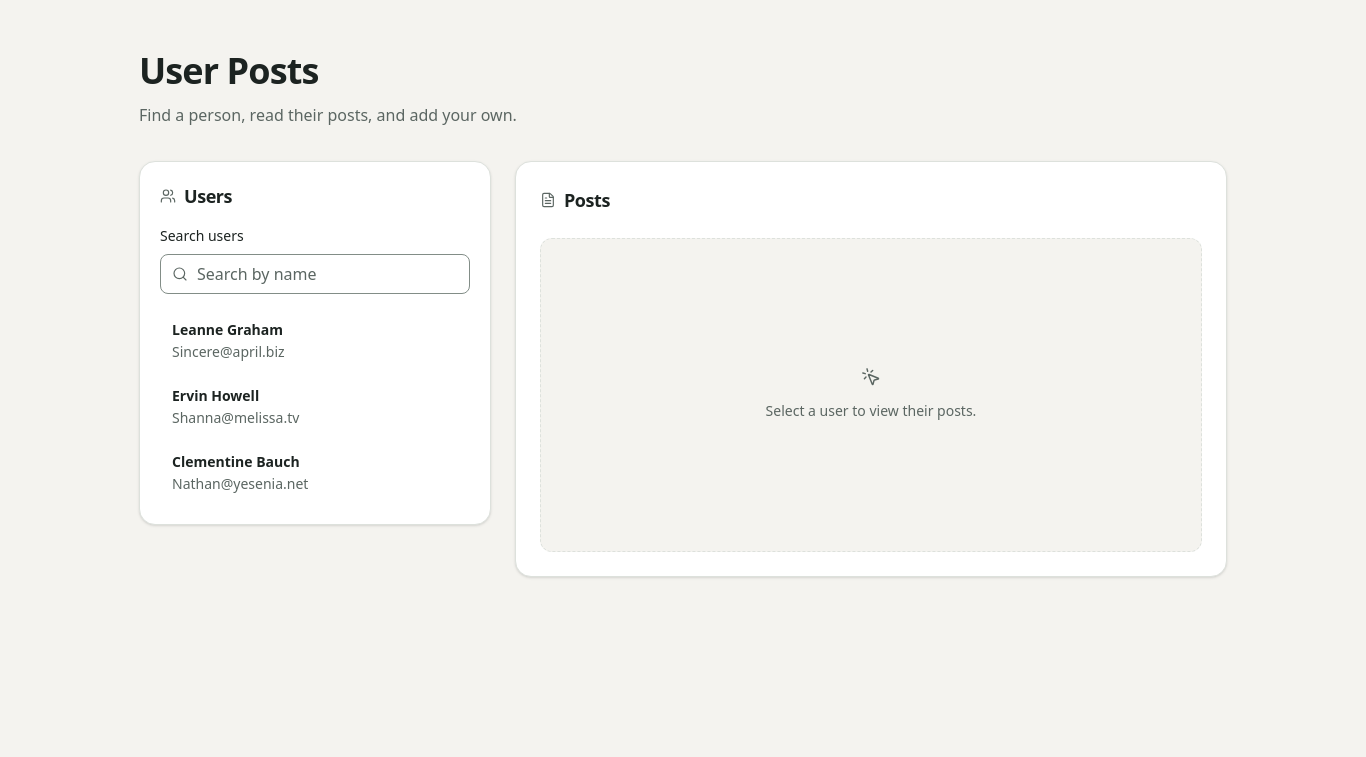
it: App › keeps a created post when switching between users
The width and height of the screenshot is (1366, 757).
Step 1. Click the button "Leanne Graham Sincere@april.biz" → click(228, 330), box 160,310 -> 470,372
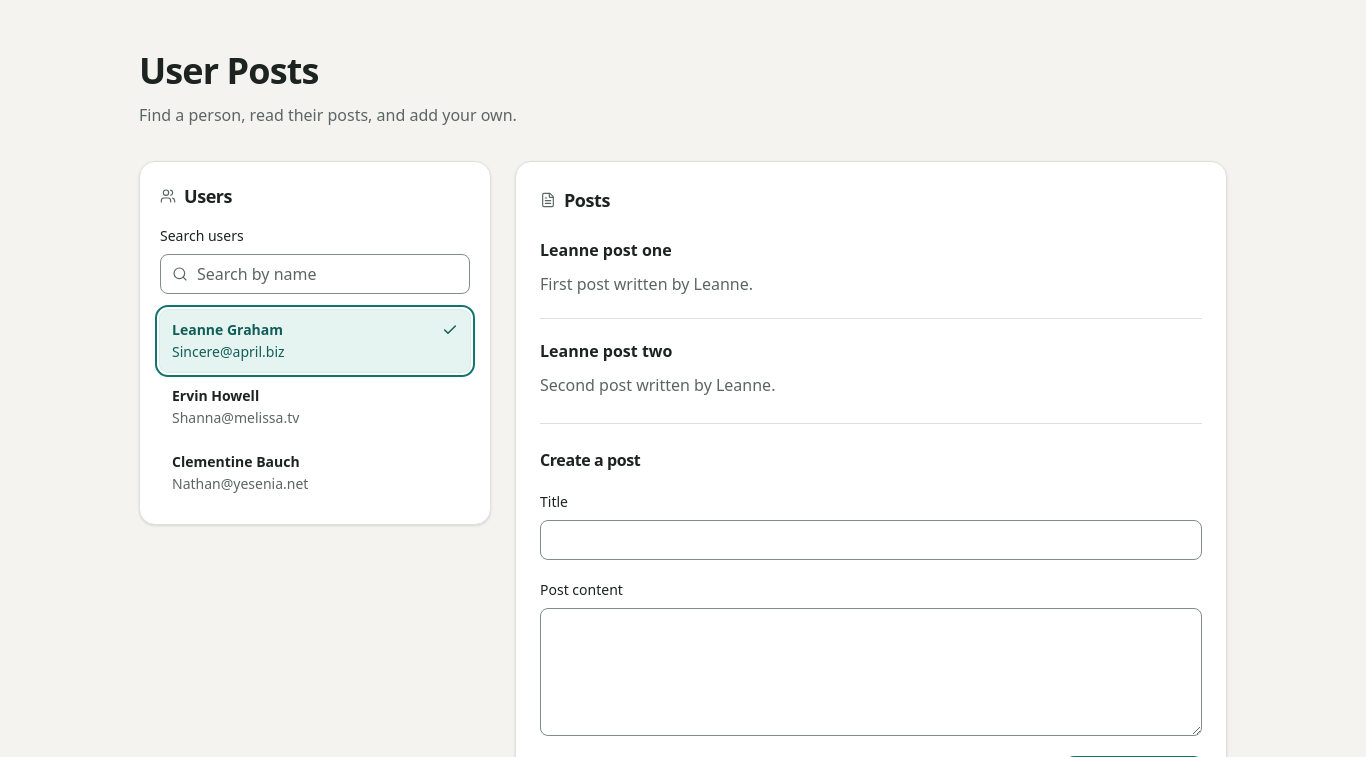
expect the heading "Leanne post one" is shown: met, box 540,239 -> 672,261
Step 2. Type "Session post" into the field labelled "Title" → (871, 540), box 540,520 -> 1202,560
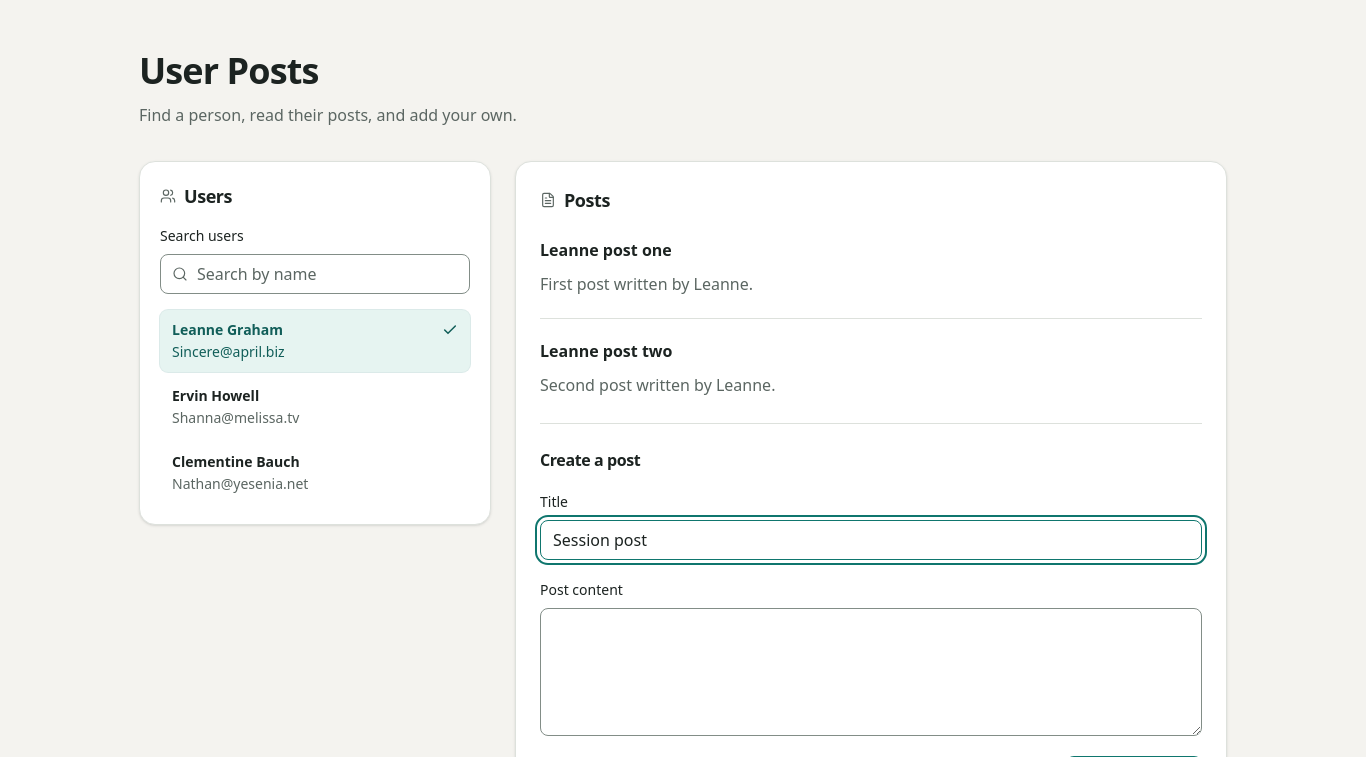
Step 3. Type "Created during the session" into the text box labelled "Post content" → (871, 672), box 540,608 -> 1202,736
(page scrolled)
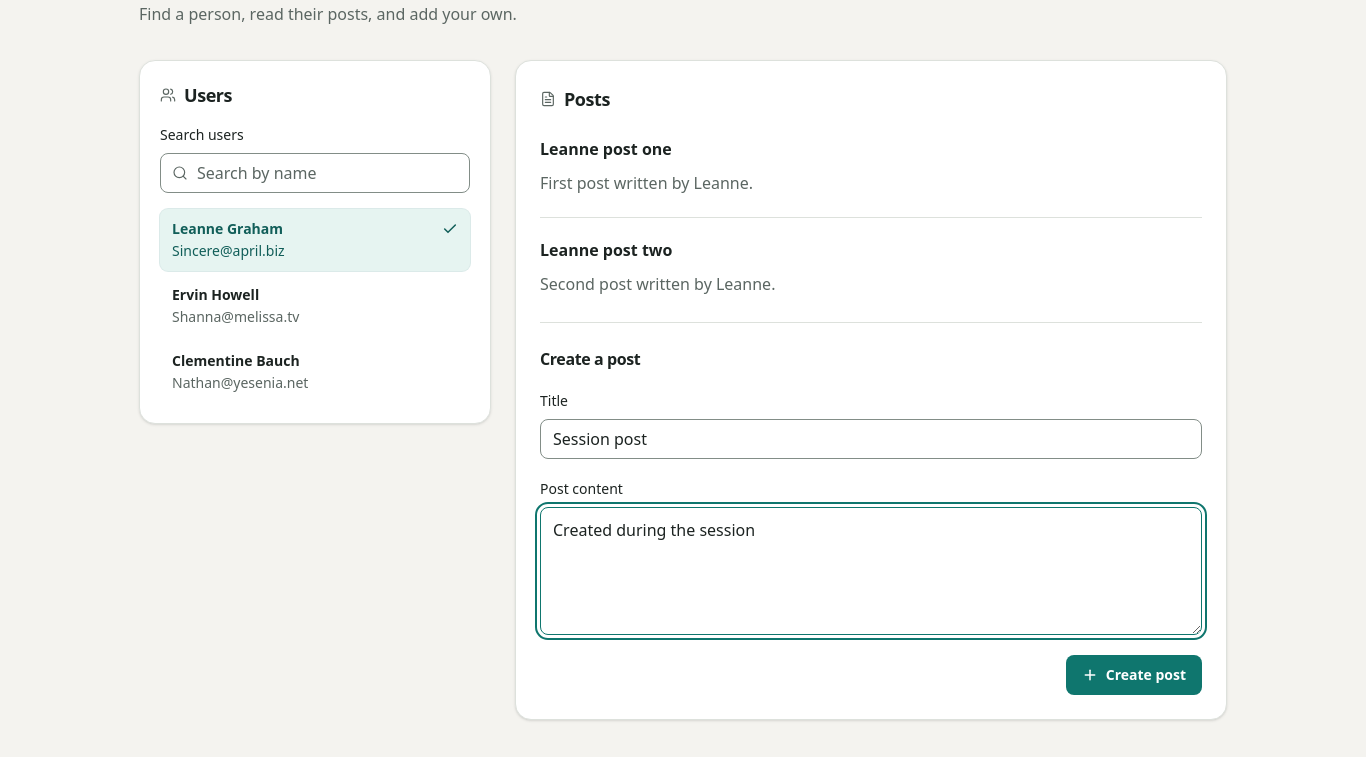
Step 4. Click the button "Create post" → click(1134, 675), box 1066,655 -> 1202,695
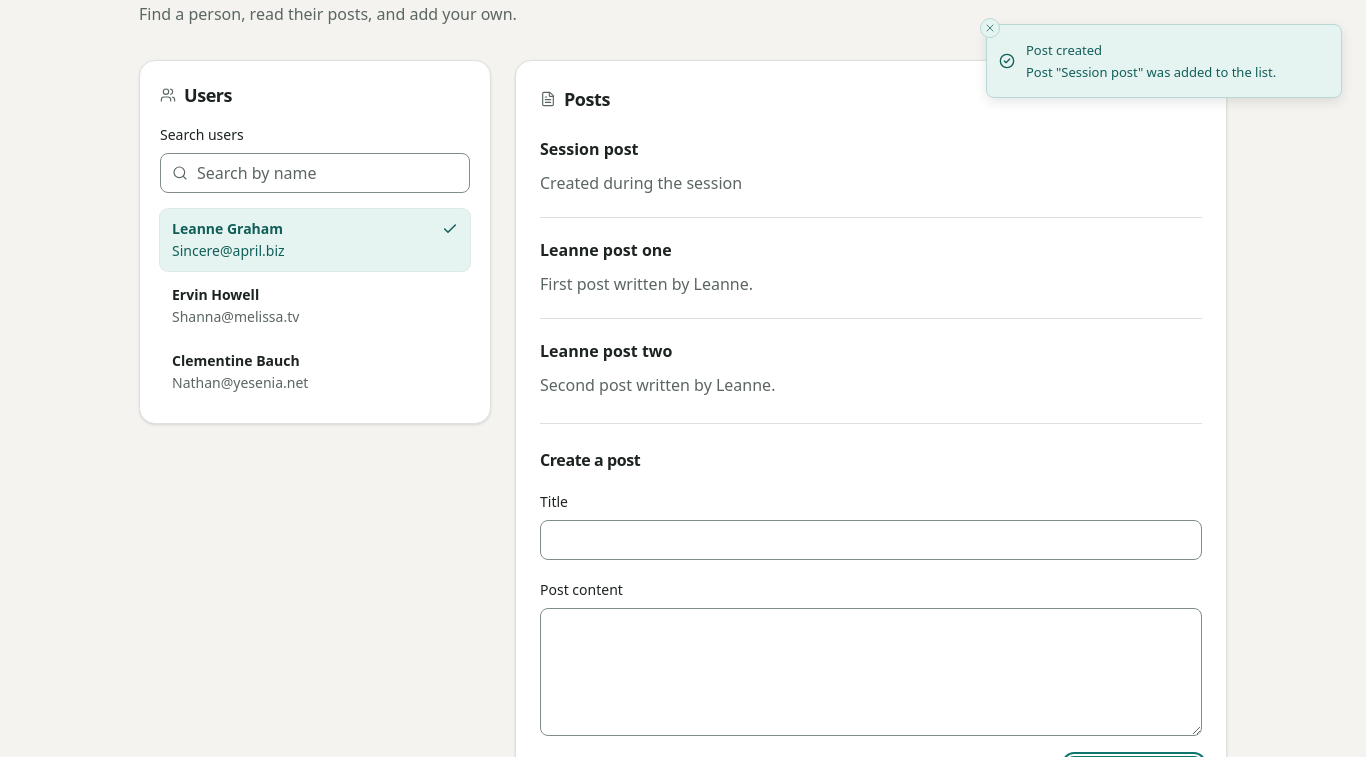
expect the heading "Session post" is shown: met, box 540,138 -> 639,160
Step 5. Click the button "Ervin Howell Shanna@melissa.tv" → click(216, 294), box 160,275 -> 470,337
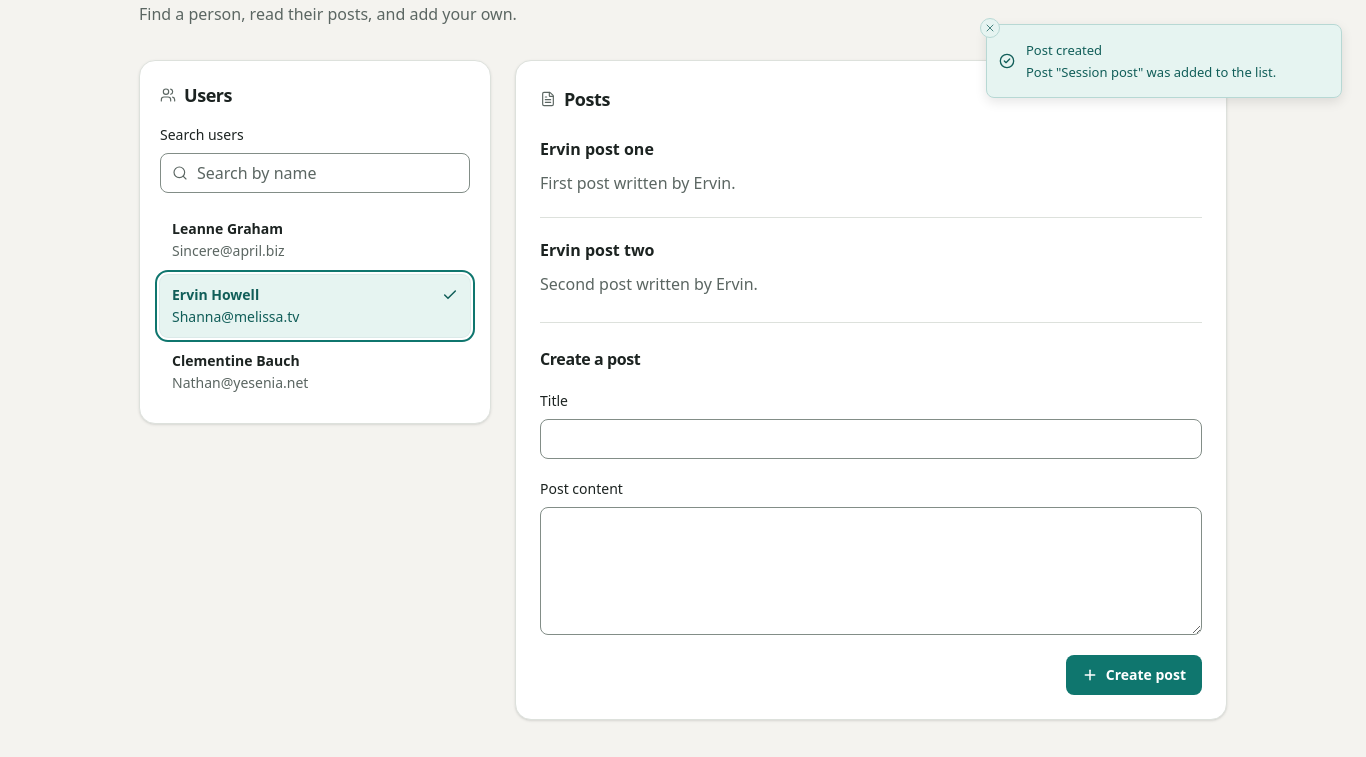
expect the heading "Ervin post one" is shown: met, box 540,138 -> 654,160
Step 6. Click the button "Leanne Graham Sincere@april.biz" → click(228, 228), box 160,209 -> 470,271
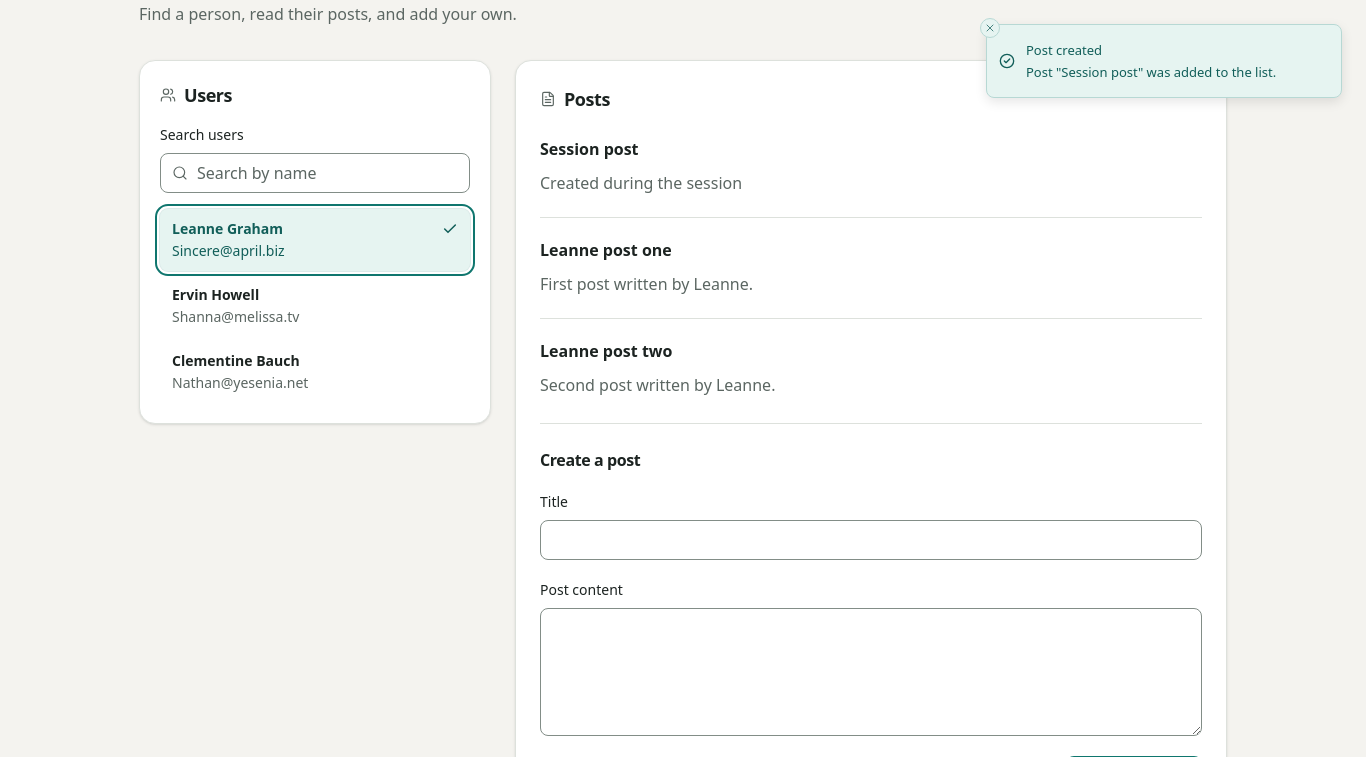
expect the heading "Session post" is shown: met, box 540,138 -> 639,160
expect the heading "Leanne post one" is shown: met, box 540,239 -> 672,261
